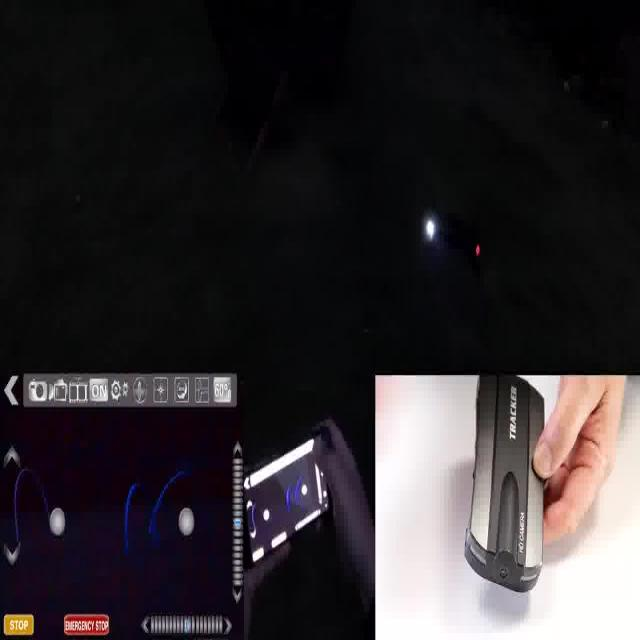drones: (408, 166, 504, 306)
